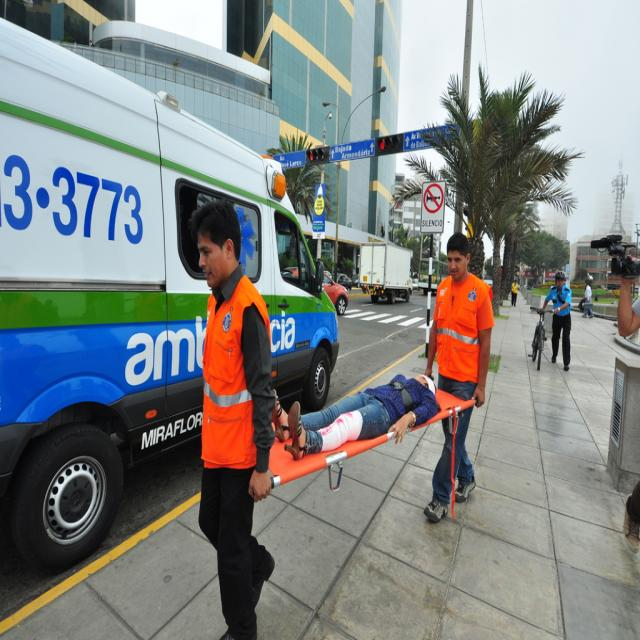Ambulance: (0, 15, 342, 570)
